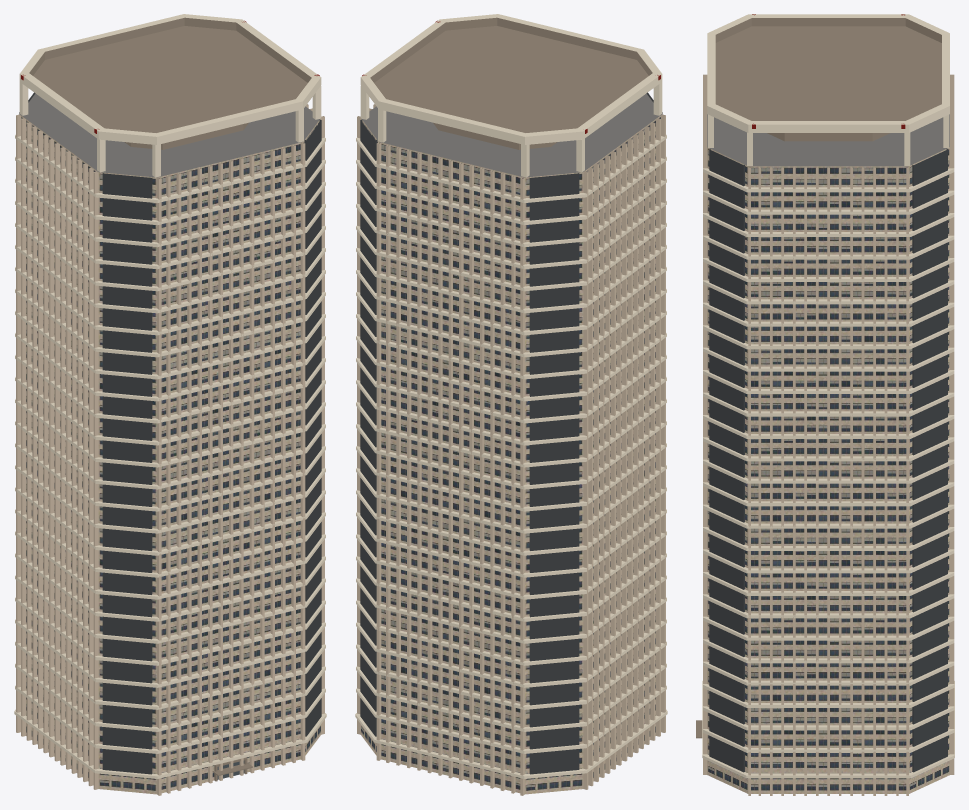
Rendered from the_tokyo_towers.glb.
The picture shows the model from 3 angles, left to right: view 1: azimuth 30°, elevation 25°; view 2: azimuth 150°, elevation 25°; view 3: azimuth 270°, elevation 25°; orthographic projection.
Visible parts, largest first — view 1: the_tokyo_towers; view 2: the_tokyo_towers; view 3: the_tokyo_towers.
Boxes of the visible parts, x1,y1,x2,y2 form: the_tokyo_towers: (14,14,326,795); the_tokyo_towers: (355,14,667,795); the_tokyo_towers: (696,14,954,795).
Bounding box in the file's own units: 71.5 × 194 × 68.
Materials: 2 (2 with a texture image).
